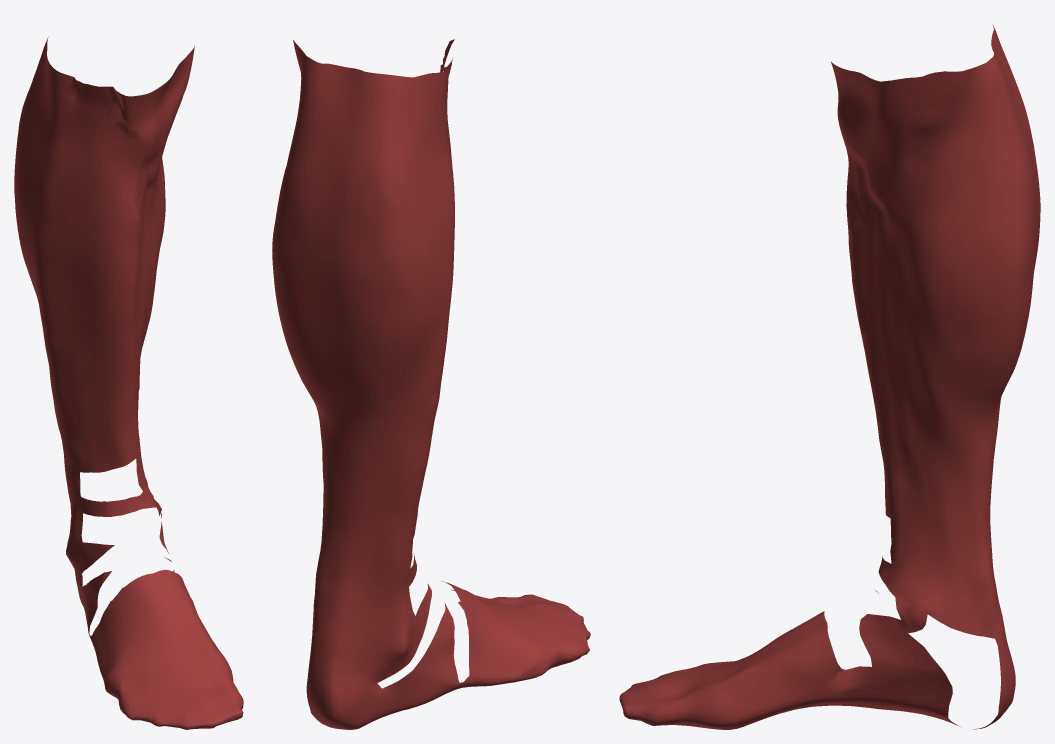
File: crural-fascia-r.glb
3 views of the same model, side by side, from view 1: azimuth 30°, elevation 25°; view 2: azimuth 150°, elevation 25°; view 3: azimuth 270°, elevation 25° (orthographic). The views are drawn at different scales.
Visible parts, largest first — view 1: Crural fascia.r; view 2: Crural fascia.r; view 3: Crural fascia.r.
Part boxes in pixels (<box>): Crural fascia.r: <box>14,37,243,729</box>; Crural fascia.r: <box>272,39,590,729</box>; Crural fascia.r: <box>619,24,1040,729</box>.
Bounding box in the file's own units: 0.1209 × 0.442 × 0.2446.
